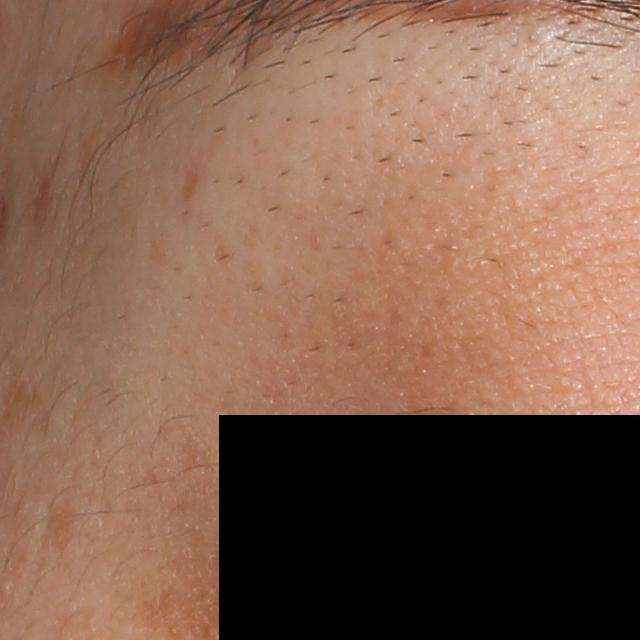melasma: (41, 496, 80, 561)
